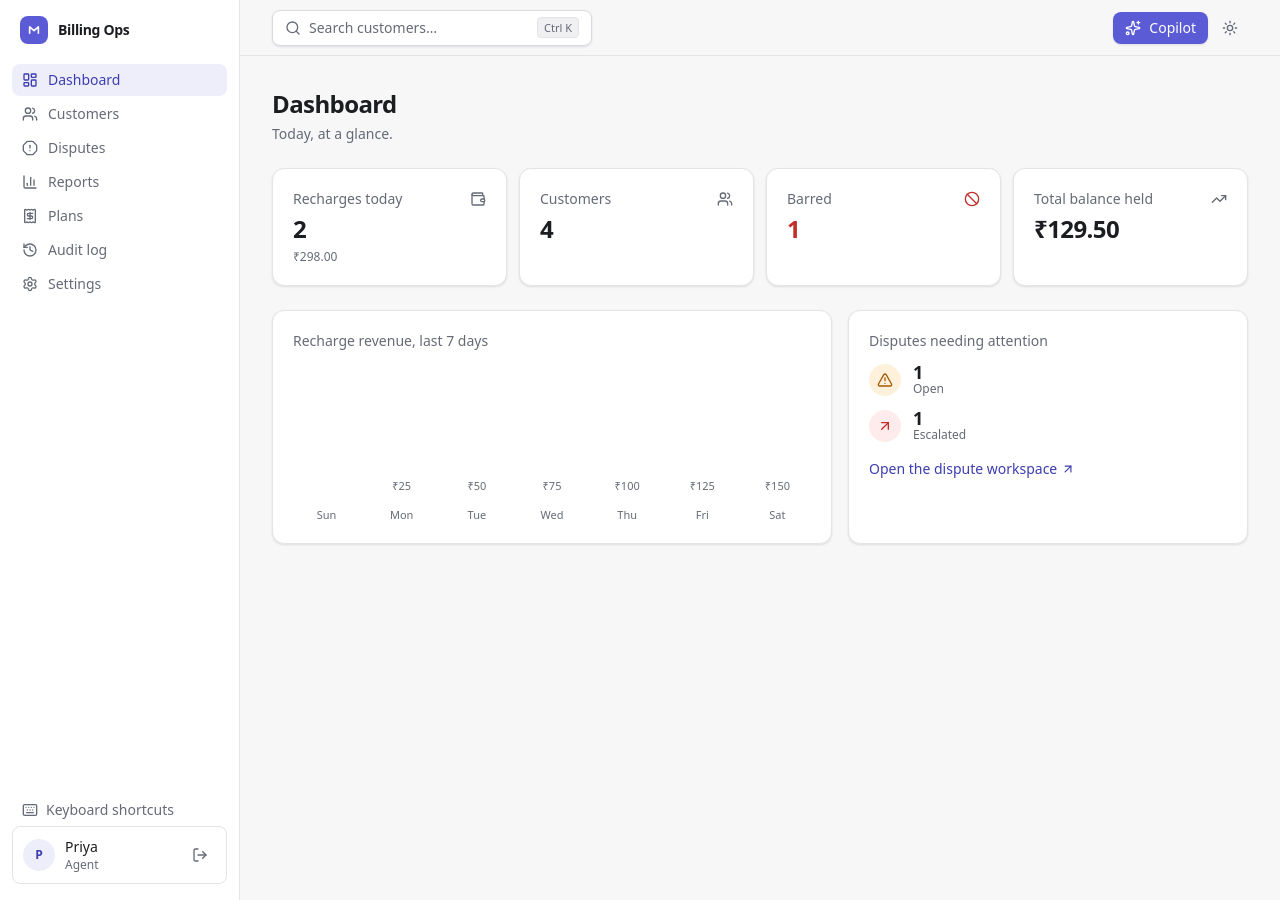
Test: sidebar navigation › reaches every new page from the sidebar
Expected: the heading "Dashboard" is shown, [272,87,397,120]
Click the link with test id "nav-reports" at (61,182), box [22,172,99,191]
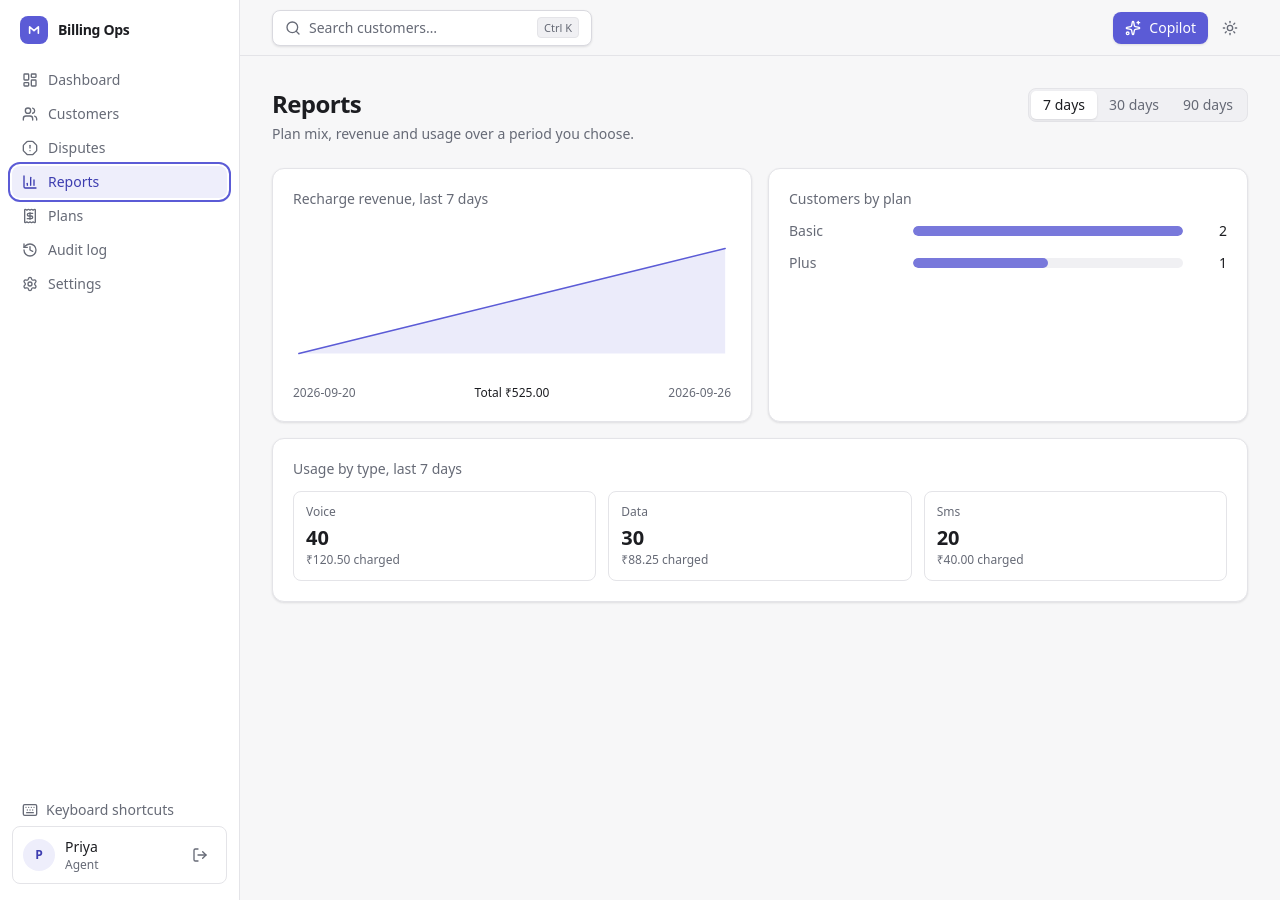
Expected: the heading "Reports" is shown, [272,87,361,120]
Click the link with test id "nav-plans" at (53,216), box [22,206,83,225]
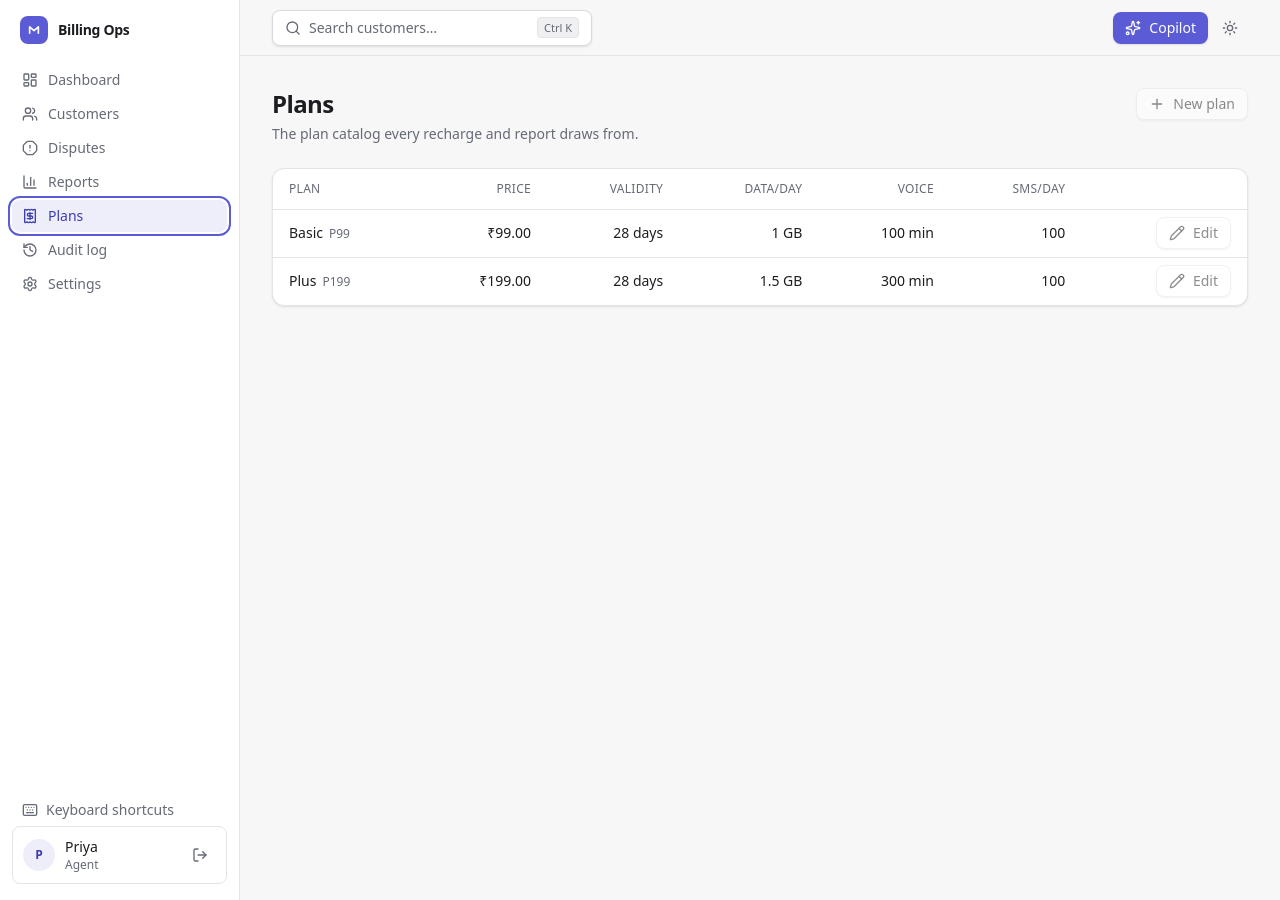
Expected: the heading "Plans" is shown, [272,87,334,120]
Click the link with test id "nav-audit" at (65,250), box [22,240,107,259]
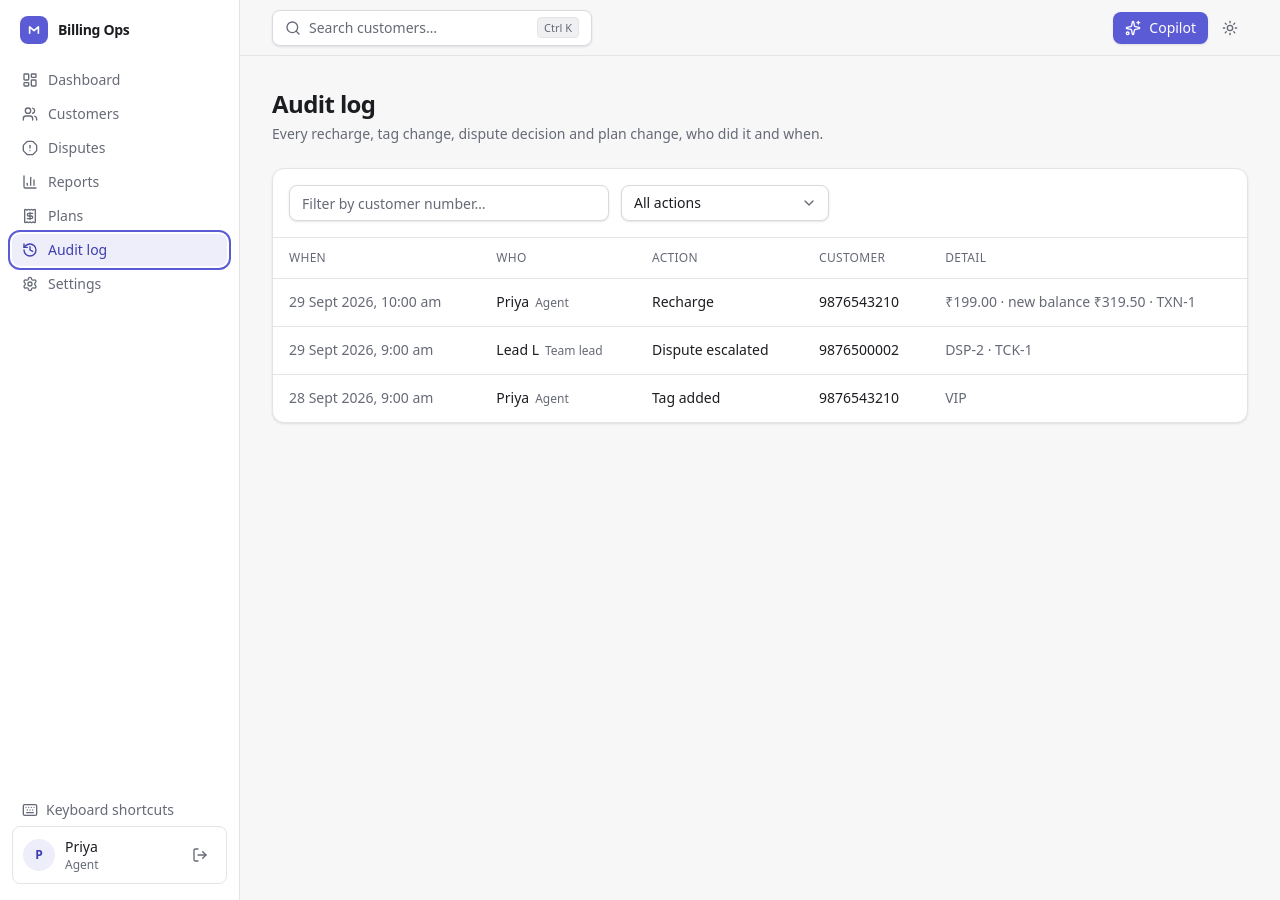
Expected: the heading "Audit log" is shown, [272,87,376,120]
Click the link with test id "nav-settings" at (62,284), box [22,274,101,293]
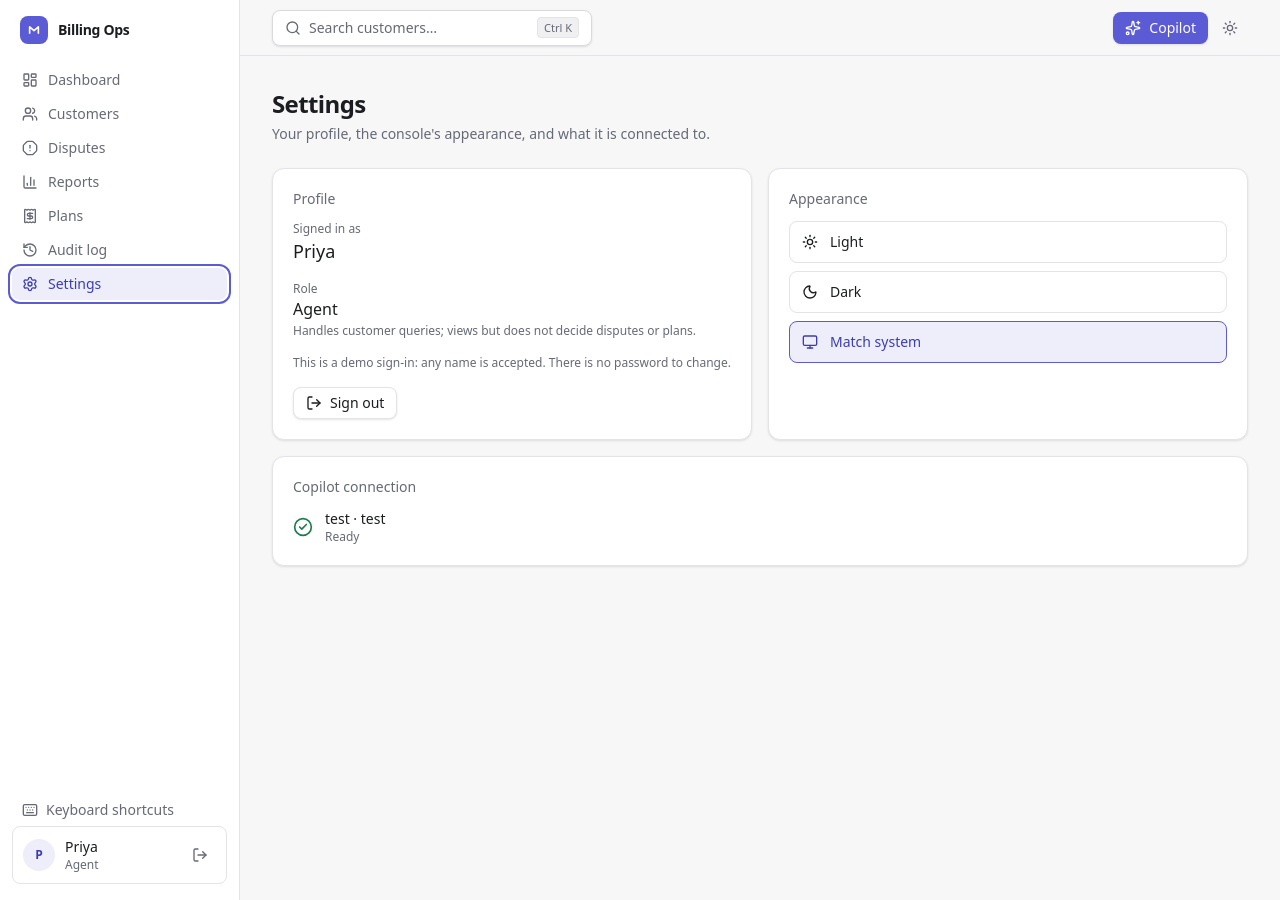
Expected: the heading "Settings" is shown, [272,87,366,120]
